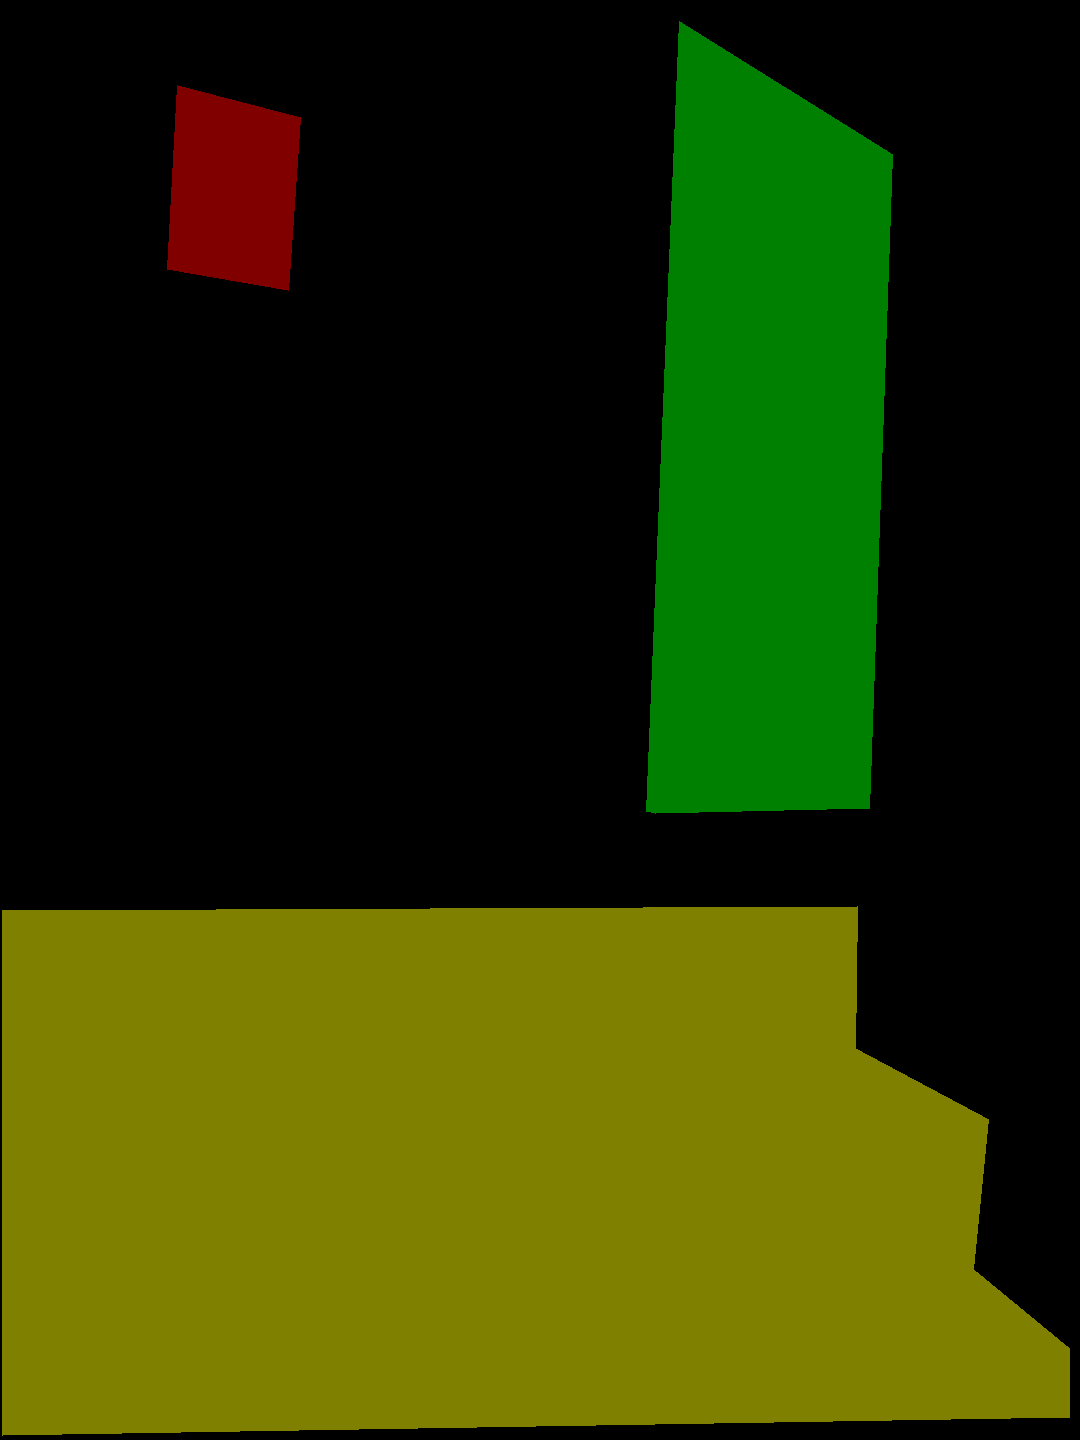door: (646, 22, 892, 813)
sign: (167, 85, 299, 290), (777, 266, 827, 367)
stair: (2, 906, 1069, 1435)
